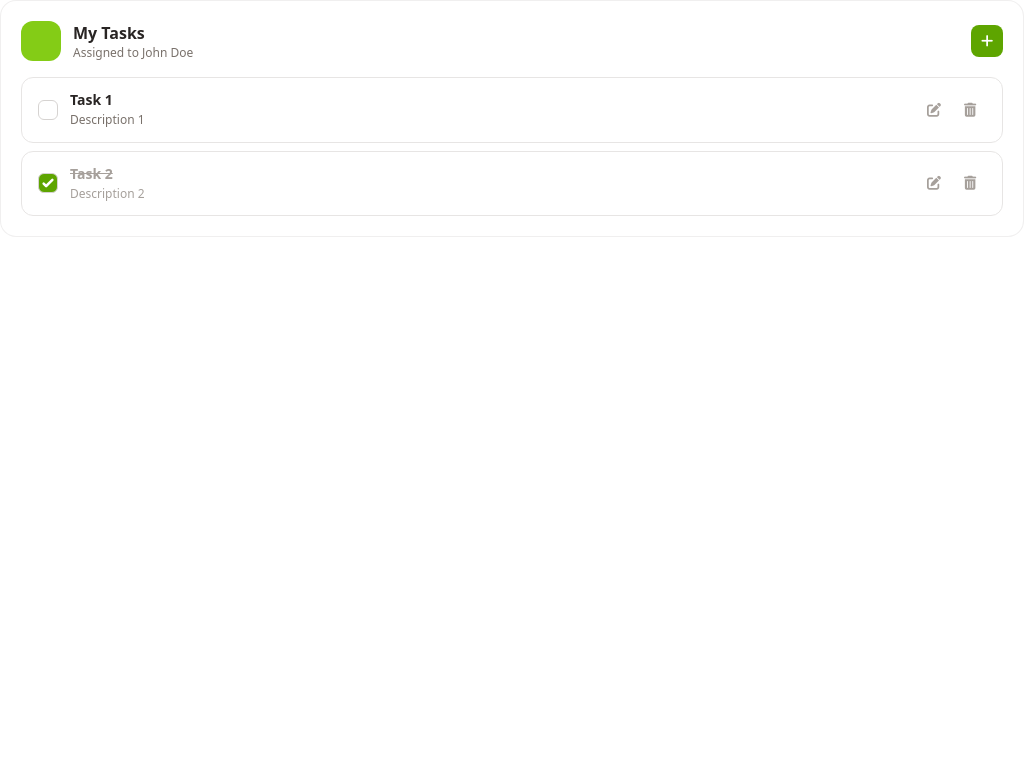
Test case: TaskSection › opens edit modal with task data
Click the button named "Edit" in the row of "Description 1". click: (934,110)
box: [918,94,950,126]
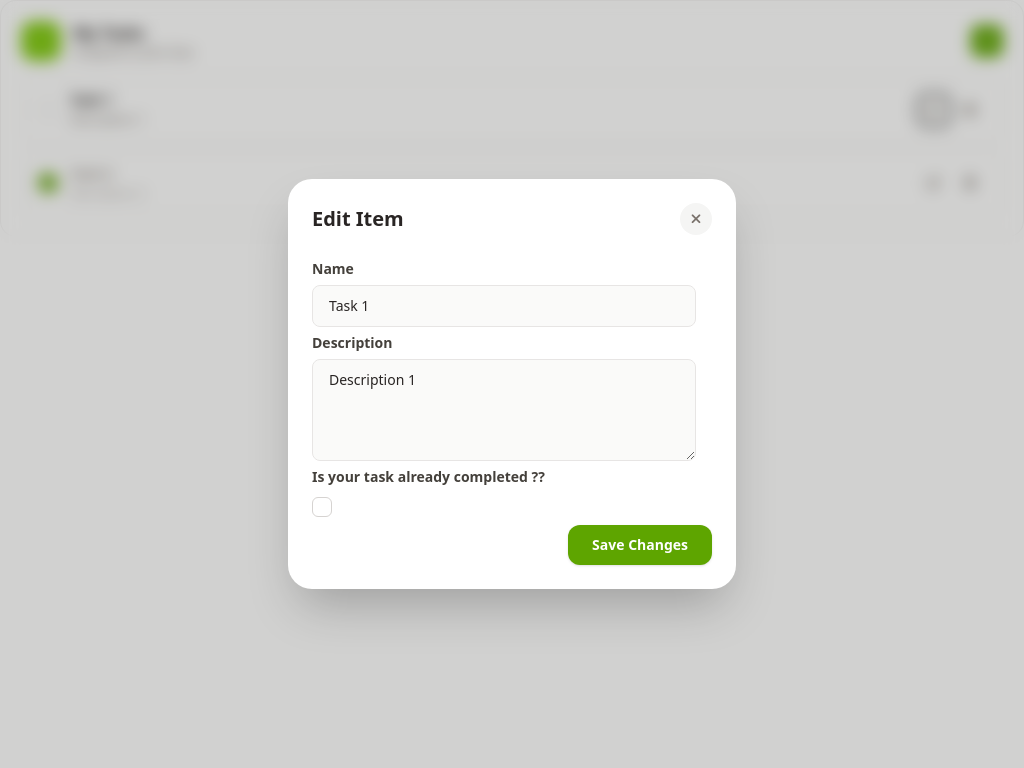
expect the heading "Edit Item" is shown: met, box [312,205,404,233]
expect the field showing "Task 1" is shown: met, box [312,285,696,327]
